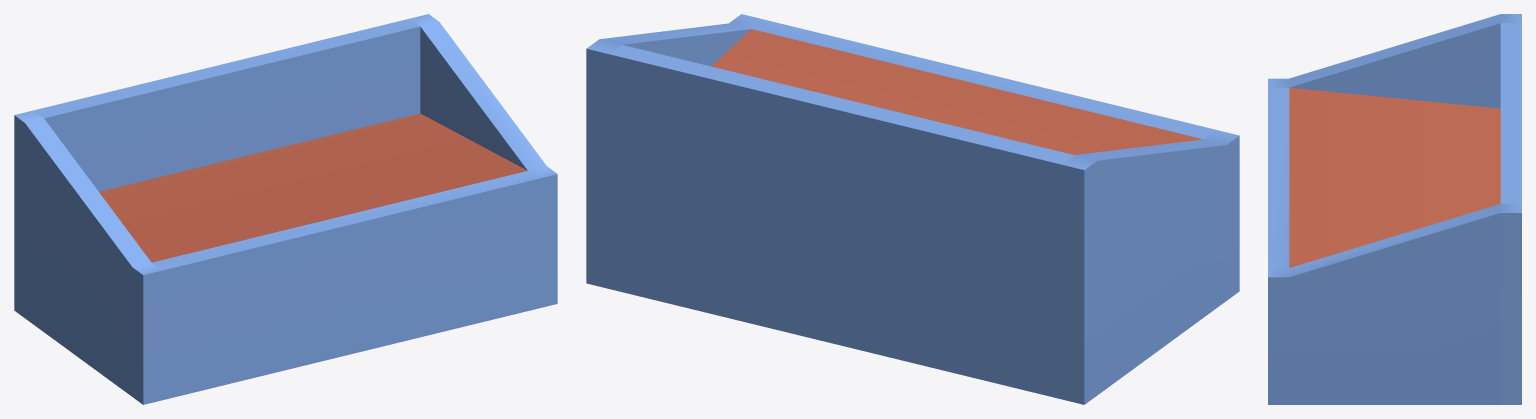
The model's file is pot75.fbx.
3 renders of one model, left to right at view 1: azimuth 30°, elevation 25°; view 2: azimuth 150°, elevation 25°; view 3: azimuth 270°, elevation 25°, orthographic. The views are drawn at different scales.
Parts seen in each view (by area): view 1: pot75; view 2: pot75; view 3: pot75.
Part boxes in pixels (x1,y1,x2,y2): pot75: [14, 14, 557, 404]; pot75: [586, 14, 1239, 404]; pot75: [1268, 14, 1521, 404].
Size of the model in its own units: 4.35 by 1.96 by 2.34.
